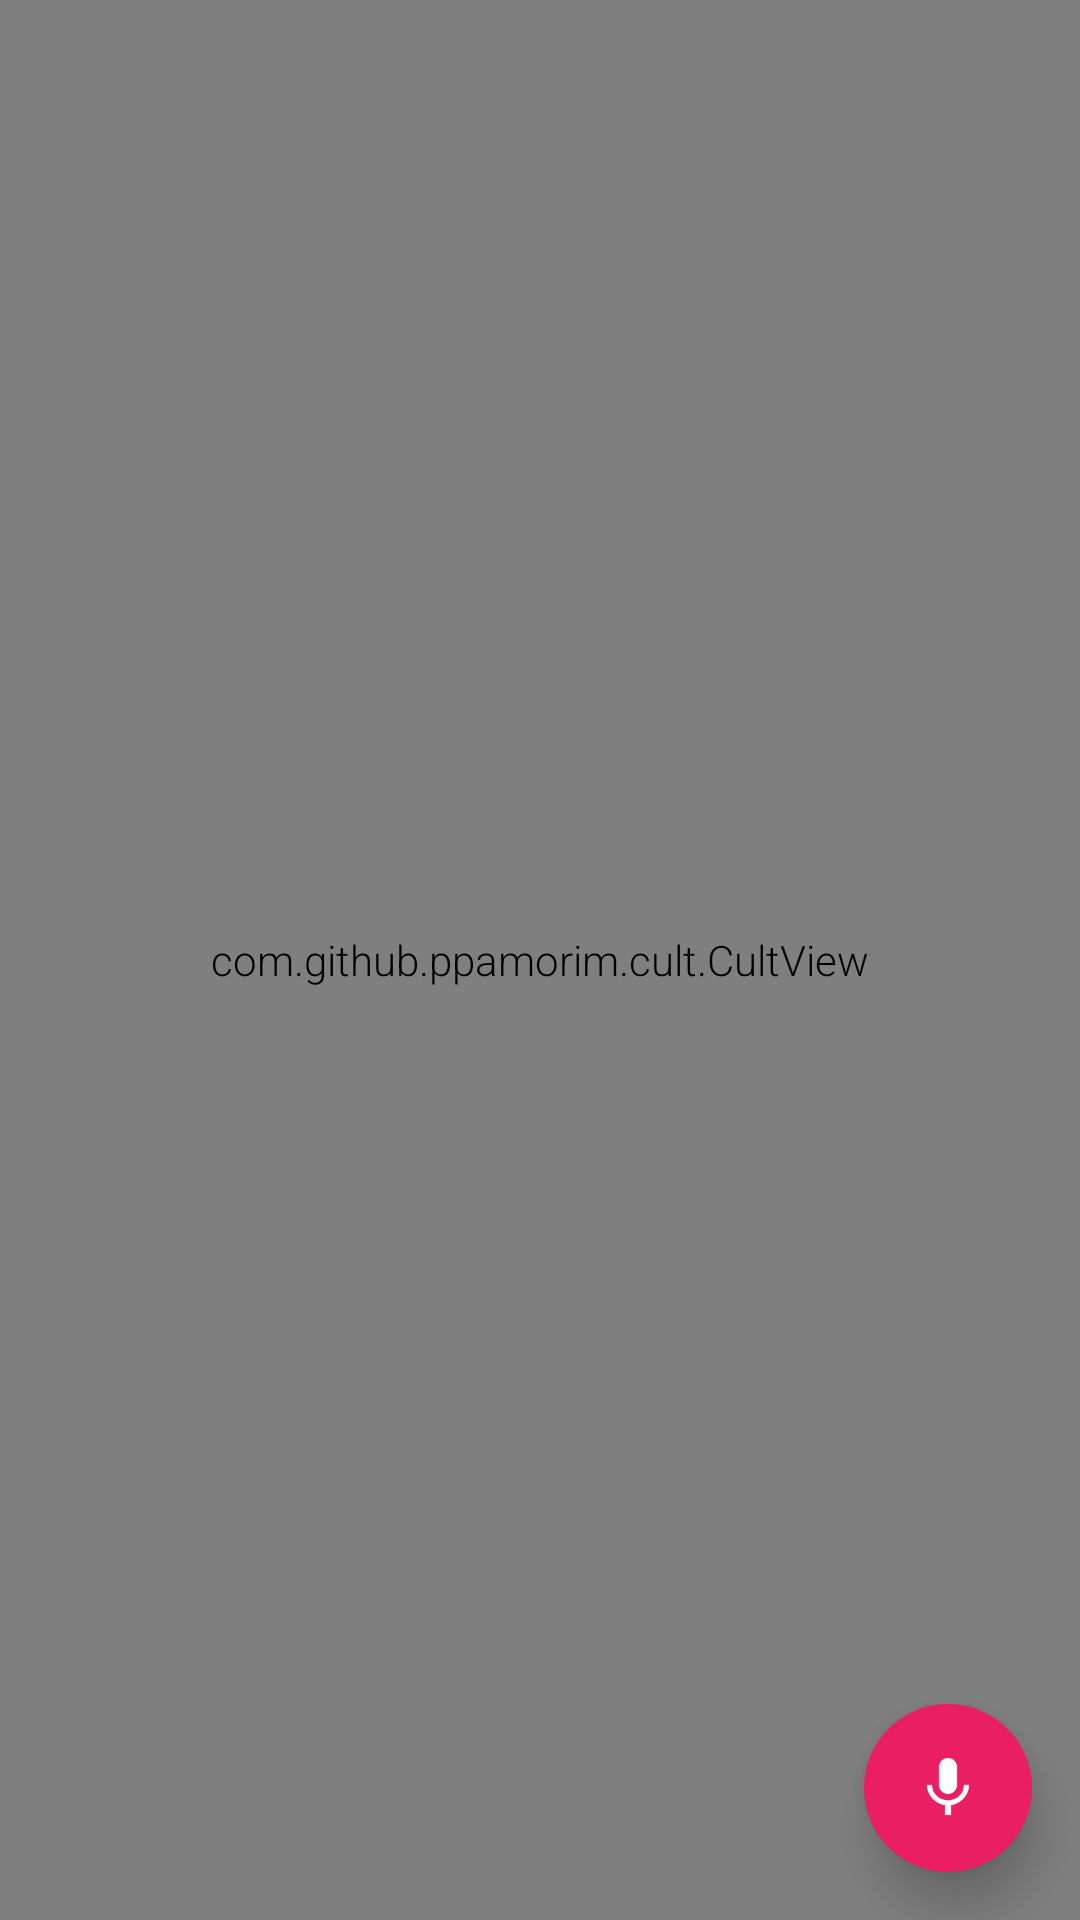

Where icons sit on this 1080 x 1920 app screen, as (left=x1, top=y1, right=x2, bottom=y2):
mic: (left=864, top=1704, right=1032, bottom=1872)
